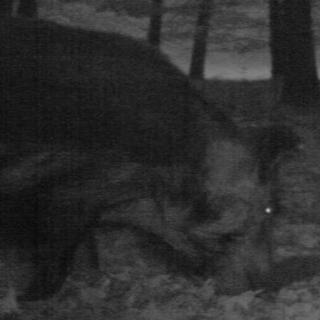Pig: (0, 17, 302, 306)
